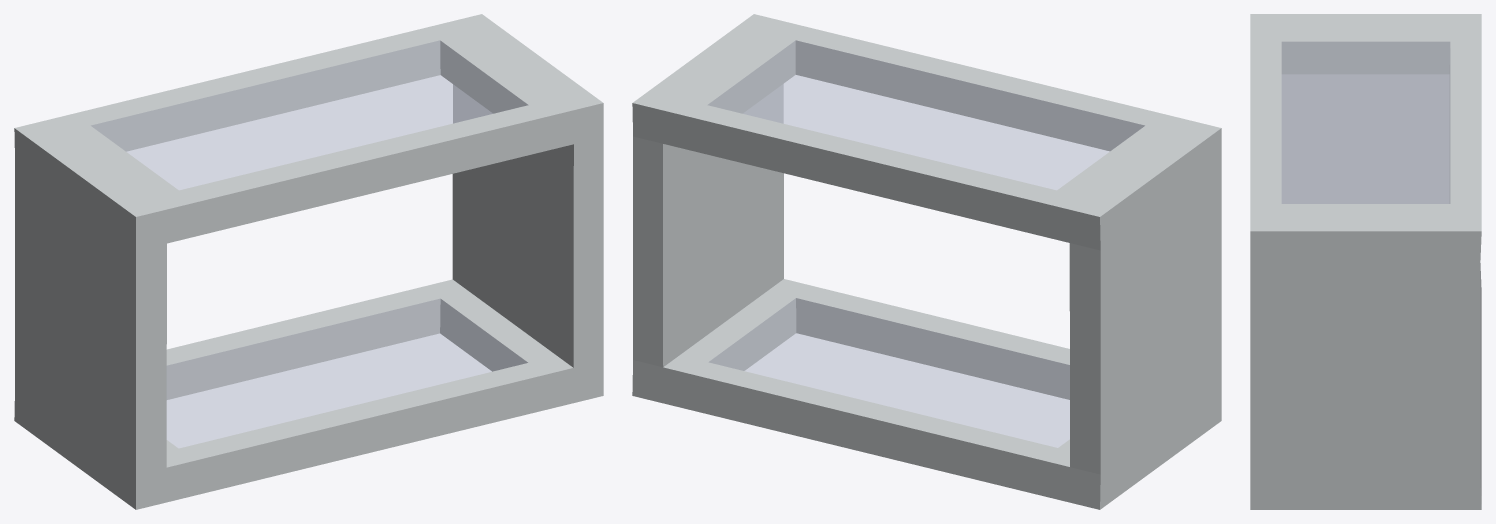
Rendered from rectangle table with glass white.glb.
The picture shows the model from 3 angles, left to right: view 1: azimuth 30°, elevation 25°; view 2: azimuth 150°, elevation 25°; view 3: azimuth 270°, elevation 25°; orthographic projection. The views are drawn at different scales.
Visible parts, largest first — view 1: rectangle table glass white; view 2: rectangle table glass white; view 3: rectangle table glass white.
Part boxes in pixels (x1,y1,x2,y2): rectangle table glass white: (14, 14, 603, 509); rectangle table glass white: (632, 14, 1221, 509); rectangle table glass white: (1250, 14, 1481, 509).
Size of the model in its own units: 1.55 by 0.9305 by 0.7.
